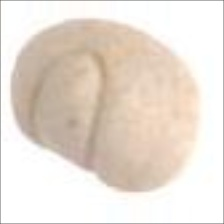L5: (27, 46, 109, 172), (36, 133, 115, 189), (114, 21, 179, 60)
L6: (8, 15, 203, 195)
